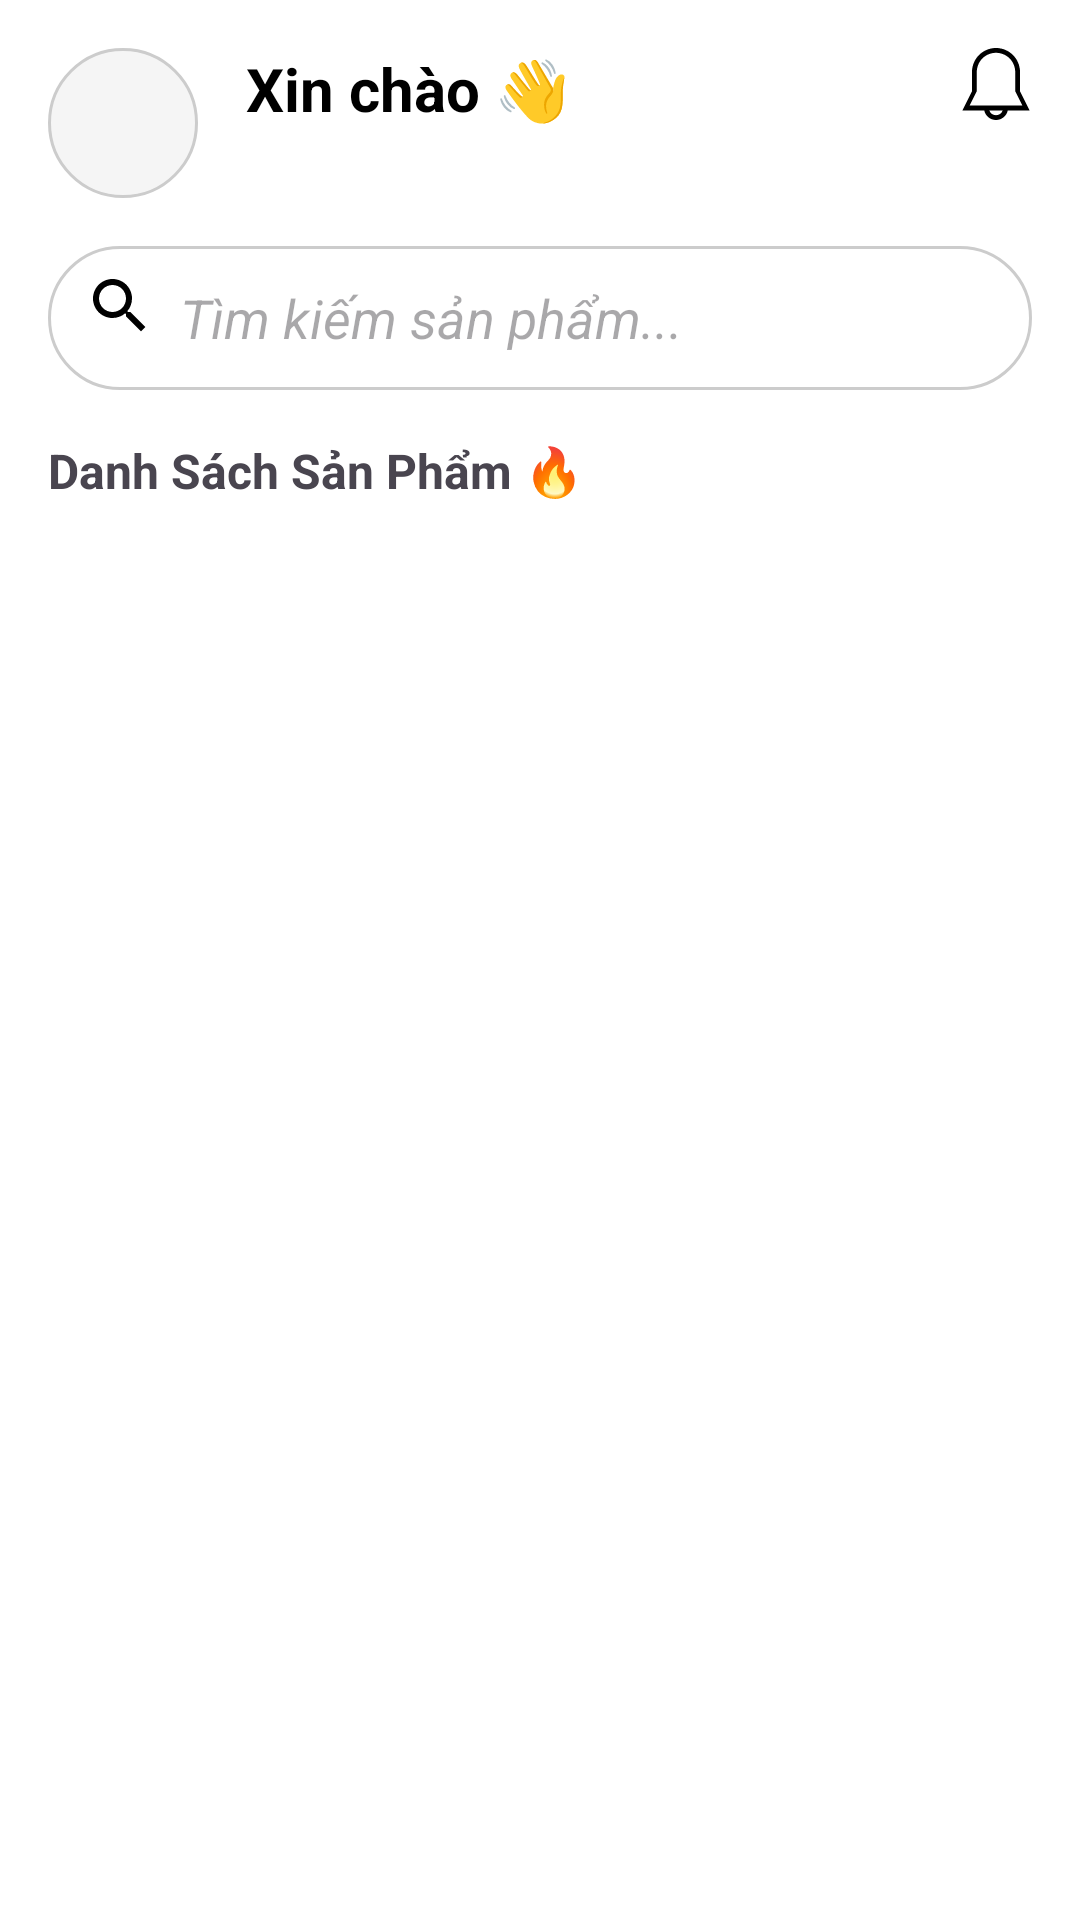

Locate icon controls on the screen. Image size 1080 × 1920, boxes as (x1, y1, x2, y2).
notifications: (962, 48, 1030, 120)
